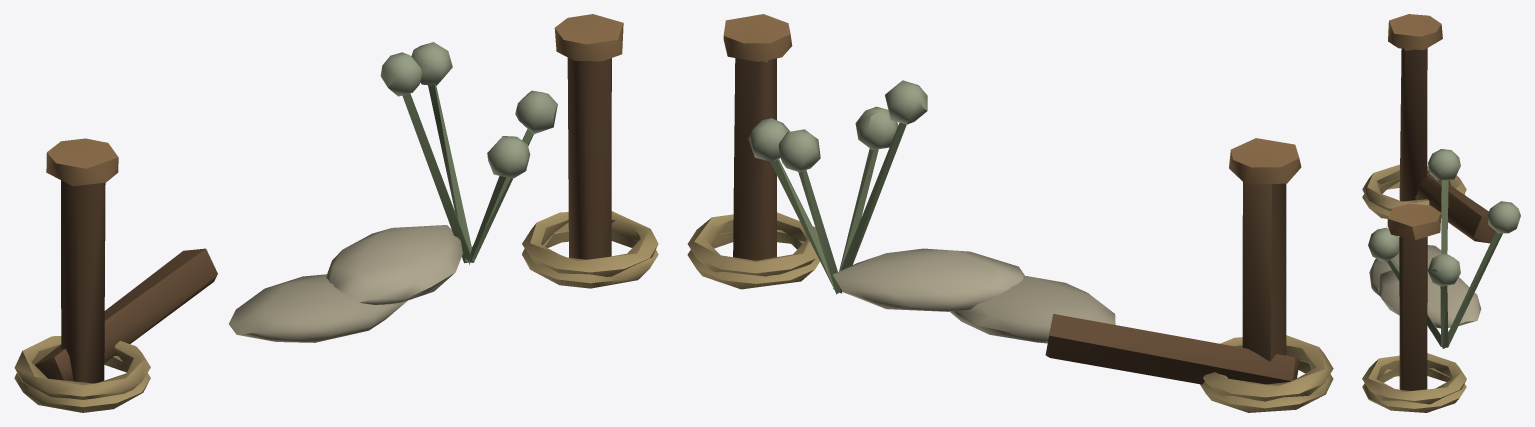
File: hammock_rig_c_lod2.glb
The picture shows the model from 3 angles, left to right: view 1: azimuth 30°, elevation 25°; view 2: azimuth 150°, elevation 25°; view 3: azimuth 270°, elevation 25°; orthographic projection. The views are drawn at different scales.
Parts seen in each view (by area): view 1: Surface.001; view 2: Surface.001; view 3: Surface.001.
Boxes of the visible parts, box(x1,y1,x2,y2) form: Surface.001: box(14, 14, 658, 412); Surface.001: box(687, 14, 1333, 412); Surface.001: box(1362, 14, 1520, 412).
Bounding box in the file's own units: 3.7 × 1.36 × 1.06.
